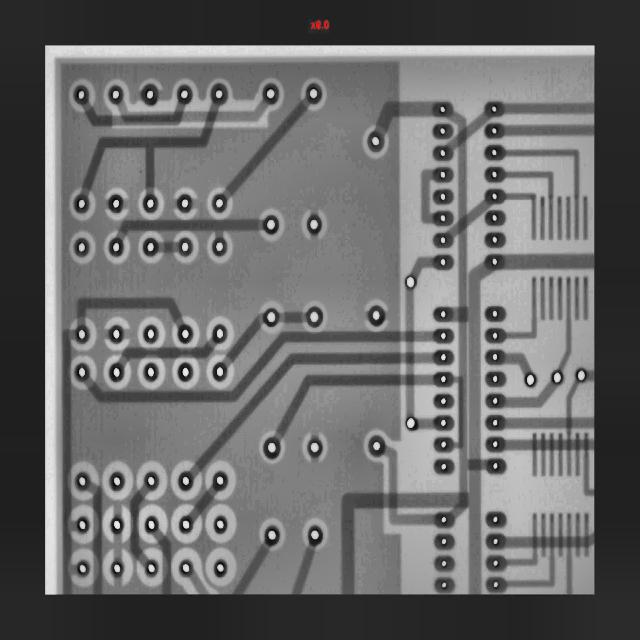Both: (70, 361, 93, 385), (260, 306, 283, 329), (209, 192, 230, 214), (485, 510, 507, 530), (366, 131, 385, 153), (262, 83, 280, 105), (306, 306, 324, 328), (485, 370, 506, 388), (176, 193, 194, 214), (484, 188, 506, 205), (485, 457, 507, 474), (548, 368, 567, 387), (211, 362, 229, 382), (484, 254, 505, 271), (432, 209, 453, 226), (433, 349, 454, 366), (177, 470, 194, 491), (211, 84, 227, 106), (433, 123, 453, 140), (435, 511, 455, 528), (435, 555, 455, 572), (141, 85, 158, 105), (368, 306, 385, 326), (368, 436, 385, 456), (485, 328, 506, 344), (486, 555, 507, 571), (177, 323, 193, 344), (264, 438, 280, 459), (486, 349, 505, 366), (486, 533, 505, 550), (143, 515, 160, 534), (485, 210, 505, 226), (485, 232, 505, 248), (433, 145, 453, 161), (433, 167, 453, 183), (433, 189, 453, 205), (433, 232, 453, 248), (434, 394, 454, 410), (434, 415, 454, 431), (435, 577, 455, 593), (109, 362, 125, 382), (143, 324, 159, 344), (73, 326, 90, 344), (486, 393, 505, 409), (142, 195, 158, 214), (143, 238, 159, 257), (264, 527, 280, 546), (433, 103, 453, 118), (433, 255, 453, 270), (74, 85, 89, 105), (434, 329, 454, 344), (434, 372, 454, 387), (212, 237, 227, 257), (143, 362, 158, 382), (178, 362, 193, 382), (308, 526, 323, 546), (485, 102, 503, 118), (263, 216, 279, 234), (485, 124, 504, 139), (485, 145, 504, 160), (486, 307, 505, 322), (486, 415, 505, 430), (486, 437, 505, 452), (434, 307, 453, 322), (435, 459, 454, 474), (435, 534, 454, 549), (306, 85, 321, 104), (74, 238, 89, 257), (144, 471, 159, 490), (109, 472, 124, 491), (74, 472, 89, 491), (487, 578, 507, 592), (434, 438, 454, 452), (307, 215, 321, 235), (178, 516, 194, 533), (178, 238, 193, 256), (212, 325, 227, 343), (213, 516, 228, 534), (486, 168, 505, 182), (109, 237, 123, 256), (109, 325, 123, 344), (74, 195, 88, 213), (308, 439, 322, 457), (179, 559, 193, 577), (109, 86, 122, 105), (144, 561, 159, 577), (214, 560, 227, 578), (404, 274, 418, 290), (213, 474, 227, 490), (178, 87, 191, 104), (109, 195, 122, 212), (110, 518, 123, 534), (77, 560, 89, 577), (575, 368, 588, 383), (77, 518, 90, 533), (525, 372, 536, 387), (112, 562, 123, 577), (406, 417, 418, 430)
L1: (425, 109, 491, 521), (375, 438, 438, 533), (116, 99, 269, 122), (506, 149, 579, 196), (506, 557, 555, 588), (405, 287, 415, 420), (506, 172, 554, 195), (561, 378, 580, 434), (557, 319, 572, 372), (185, 569, 210, 600), (505, 319, 537, 340), (505, 556, 538, 567), (548, 196, 554, 240), (574, 277, 580, 320), (505, 192, 537, 200), (566, 556, 572, 595), (156, 243, 179, 253), (558, 195, 563, 240), (576, 513, 581, 558), (584, 476, 595, 496), (583, 196, 588, 240), (574, 196, 579, 240), (566, 196, 571, 240), (549, 275, 554, 319), (584, 432, 589, 476), (575, 432, 580, 476), (550, 432, 555, 476), (532, 432, 537, 476), (584, 513, 589, 557), (567, 512, 572, 556), (559, 512, 564, 556), (541, 513, 546, 557), (532, 512, 537, 556), (540, 197, 545, 240), (566, 277, 571, 320), (541, 433, 546, 476), (566, 433, 571, 475), (550, 512, 554, 557), (532, 197, 536, 241), (558, 276, 562, 320), (541, 276, 545, 320), (532, 276, 536, 320), (559, 433, 563, 475), (584, 277, 587, 320)
L2: (82, 275, 438, 443), (337, 255, 497, 601), (162, 297, 439, 479), (66, 99, 239, 216), (257, 334, 438, 444), (220, 96, 312, 202), (62, 329, 77, 594), (115, 217, 265, 242), (77, 297, 185, 330), (116, 336, 219, 369), (219, 310, 271, 368), (81, 100, 186, 126), (373, 101, 437, 138), (232, 540, 272, 599), (500, 379, 561, 414), (445, 109, 492, 154), (445, 197, 493, 240), (86, 480, 102, 595), (129, 484, 150, 568), (500, 253, 595, 270), (503, 532, 594, 548), (291, 543, 317, 597), (186, 483, 220, 523), (152, 527, 172, 594), (503, 102, 595, 115), (503, 439, 595, 451), (504, 417, 595, 429), (405, 250, 439, 281), (503, 125, 595, 136), (420, 169, 436, 224), (453, 377, 463, 448), (503, 353, 533, 376), (278, 312, 307, 323), (417, 418, 435, 429), (585, 370, 595, 381)
